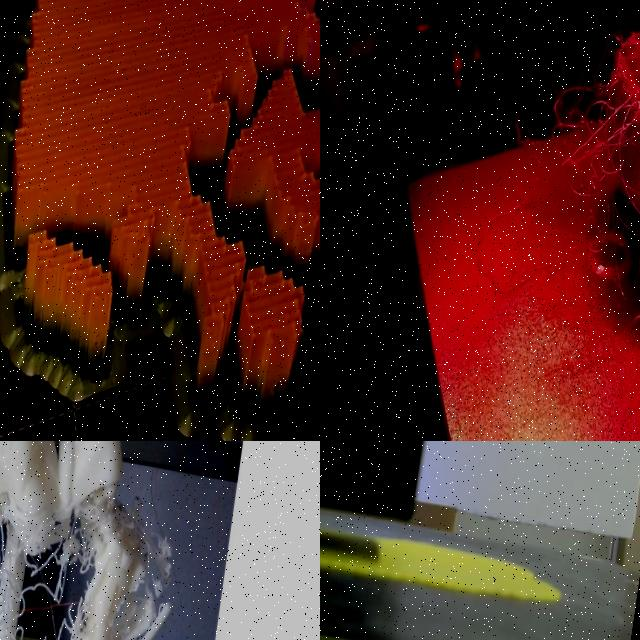spaghetti: (552, 23, 640, 320), (4, 543, 95, 640), (149, 521, 177, 595)
